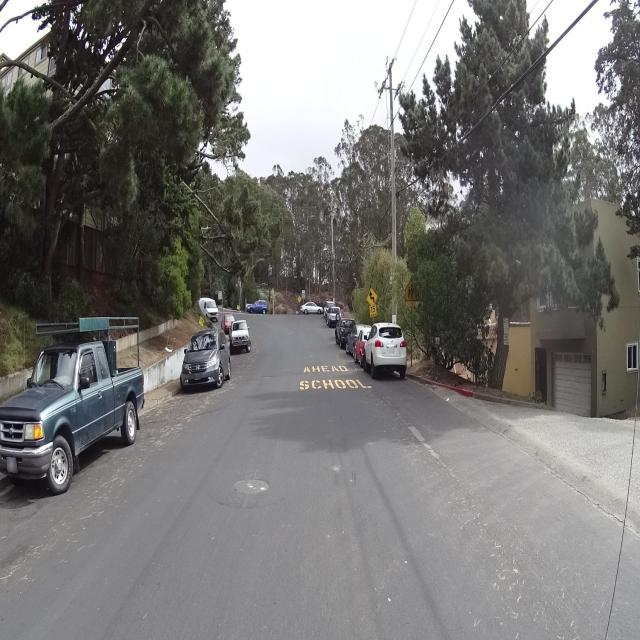Good: (233, 476, 270, 498), (260, 371, 275, 382)
